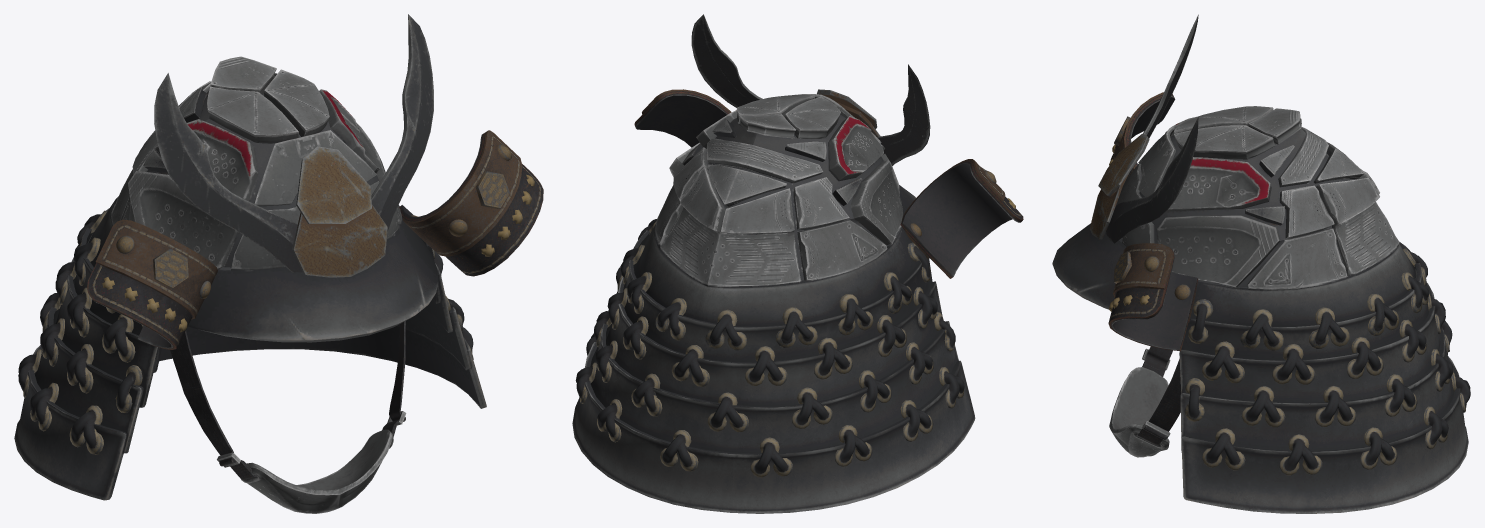
Rendered from capacete.fbx.
3 renders of one model, left to right at view 1: azimuth 30°, elevation 25°; view 2: azimuth 150°, elevation 25°; view 3: azimuth 270°, elevation 25°, orthographic. The views are drawn at different scales.
Visible parts, largest first — view 1: SK_M_ronin_head_LOD0_001; view 2: SK_M_ronin_head_LOD0_001; view 3: SK_M_ronin_head_LOD0_001.
Boxes of the visible parts, x1,y1,x2,y2 form: SK_M_ronin_head_LOD0_001: (14,14,543,513); SK_M_ronin_head_LOD0_001: (572,14,1023,513); SK_M_ronin_head_LOD0_001: (1052,14,1470,513).
Size of the model in its own units: 3807 by 3543 by 3494.
